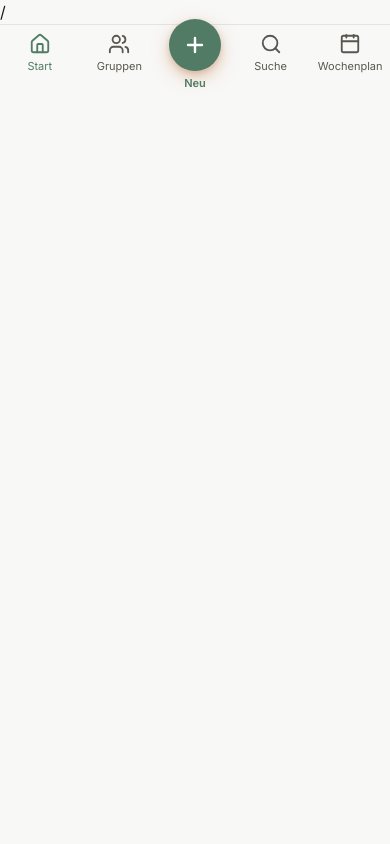
Scenario: <BottomNav /> › opens the CreateActionSheet with all 5 actions when the FAB is tapped (1+ groups)
The image size is (390, 844).
What coordinates should you click on to do the following:
click the button with aria-label "neues rezept"
I would click on:
 (195, 64)
Its box is 159,25 -> 231,104.
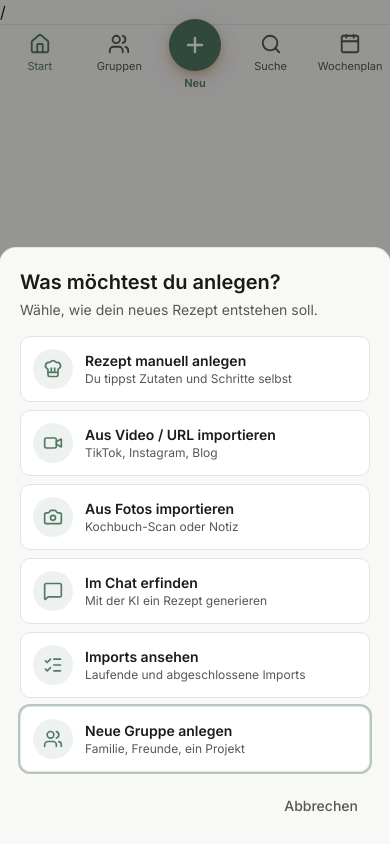
Check: the dialog "Was möchtest du anlegen" is shown
Check: the button "Rezept manuell anlegen Du tippst Zutaten und Schritte selbst" is shown, box 20,336 -> 370,402
Check: the button "Aus Video / URL importieren TikTok, Instagram, Blog" is shown, box 20,410 -> 370,476
